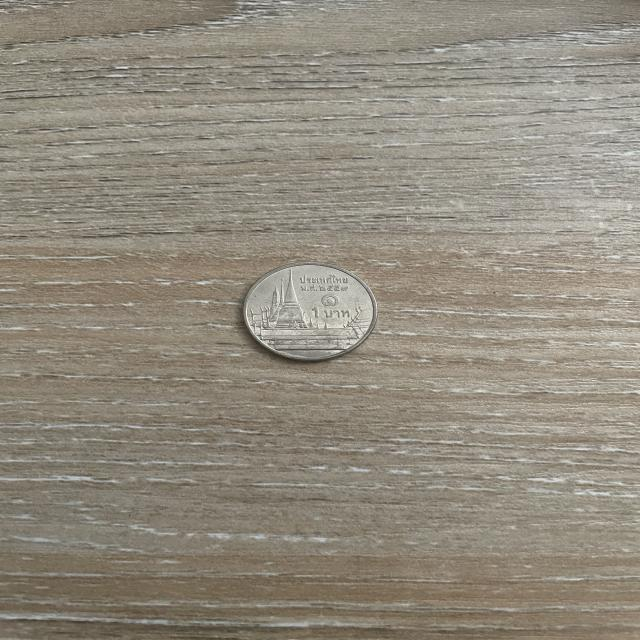1 Bath: (234, 256, 388, 374)
